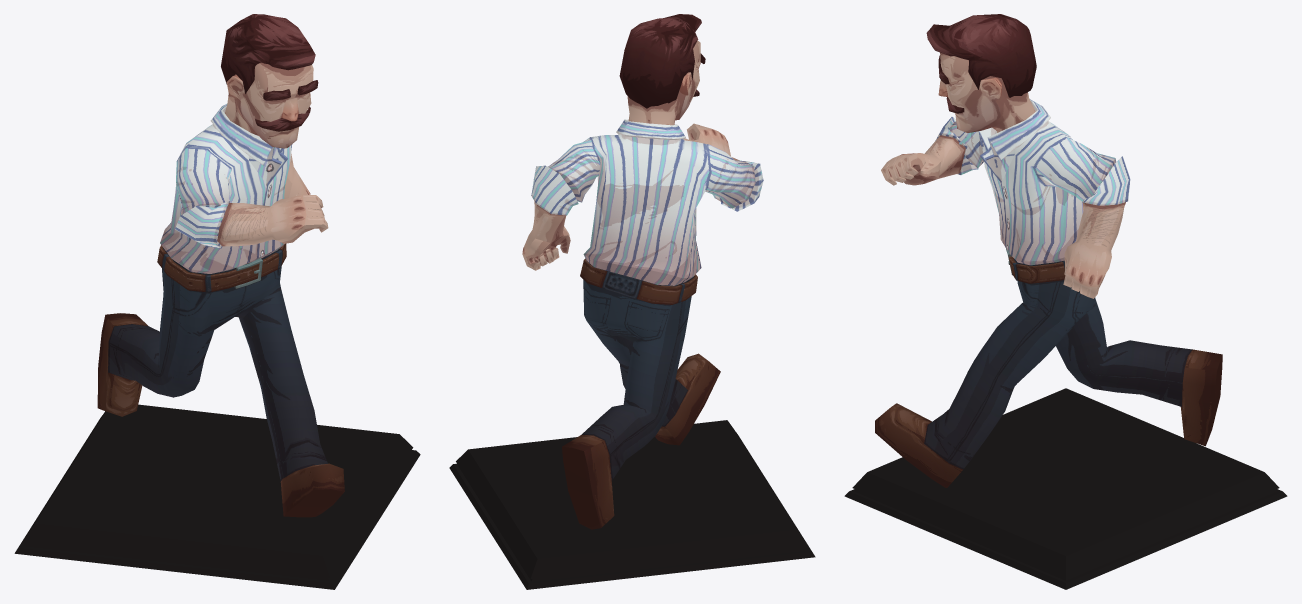
Rendered from 90s_dad.gltf.
3 views of the same model, side by side, from view 1: azimuth 30°, elevation 25°; view 2: azimuth 150°, elevation 25°; view 3: azimuth 270°, elevation 25° (orthographic). The views are drawn at different scales.
Parts seen in each view (by area): view 1: polySurface37; view 2: polySurface37; view 3: polySurface37.
Boxes of the visible parts, <box> form: polySurface37: <box>14,14,420,589</box>; polySurface37: <box>449,14,815,589</box>; polySurface37: <box>844,14,1287,589</box>.
Size of the model in its own units: 8.01 by 9.63 by 8.01.
Materials: 2 (1 with a texture image).
